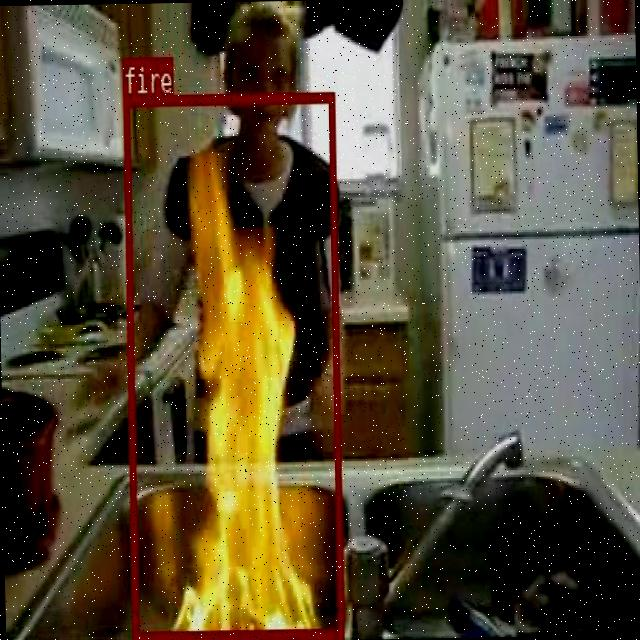fire: (123, 90, 342, 638)
